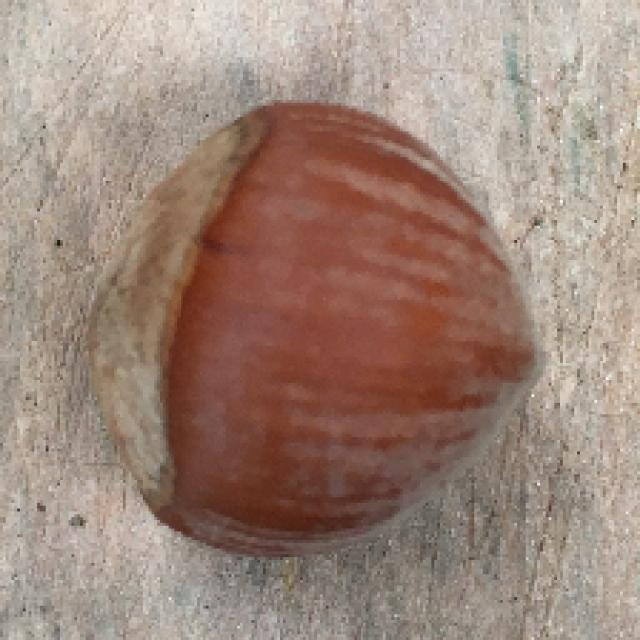qualityHazelnut: (76, 96, 558, 567)
